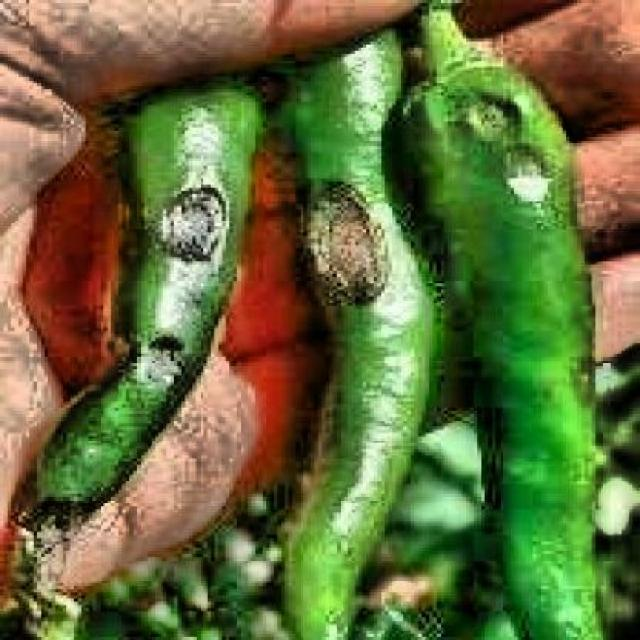Moko: (457, 22, 593, 296), (99, 153, 263, 379), (280, 113, 403, 344), (0, 456, 131, 632), (464, 344, 533, 501)
